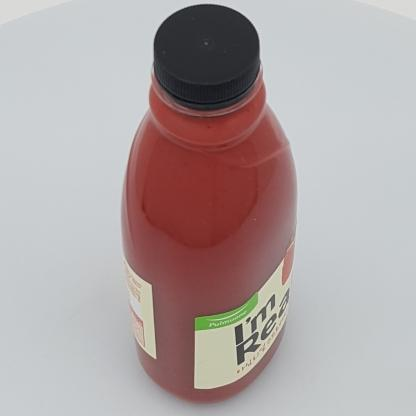--------------700ML: (121, 4, 297, 404)
